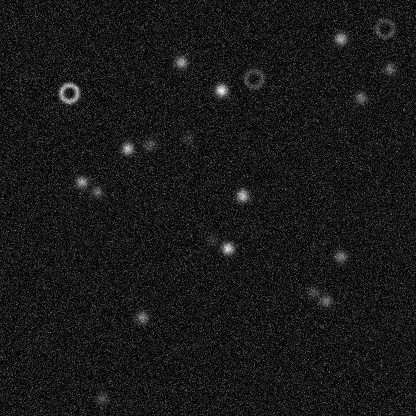Ring: (241, 66, 265, 90), (57, 80, 81, 104), (372, 16, 396, 40)
Spot: (141, 136, 157, 152), (179, 130, 195, 146), (88, 183, 104, 199), (93, 390, 109, 406), (219, 240, 235, 256), (119, 140, 135, 156), (234, 187, 250, 203), (352, 89, 368, 105), (332, 30, 348, 46), (204, 232, 220, 248), (73, 173, 89, 189), (134, 309, 150, 325), (317, 292, 333, 308), (172, 54, 188, 70), (213, 82, 229, 98), (332, 248, 348, 264), (381, 60, 397, 76), (305, 283, 321, 299)
